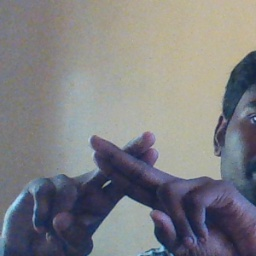F: (52, 126, 201, 238)
